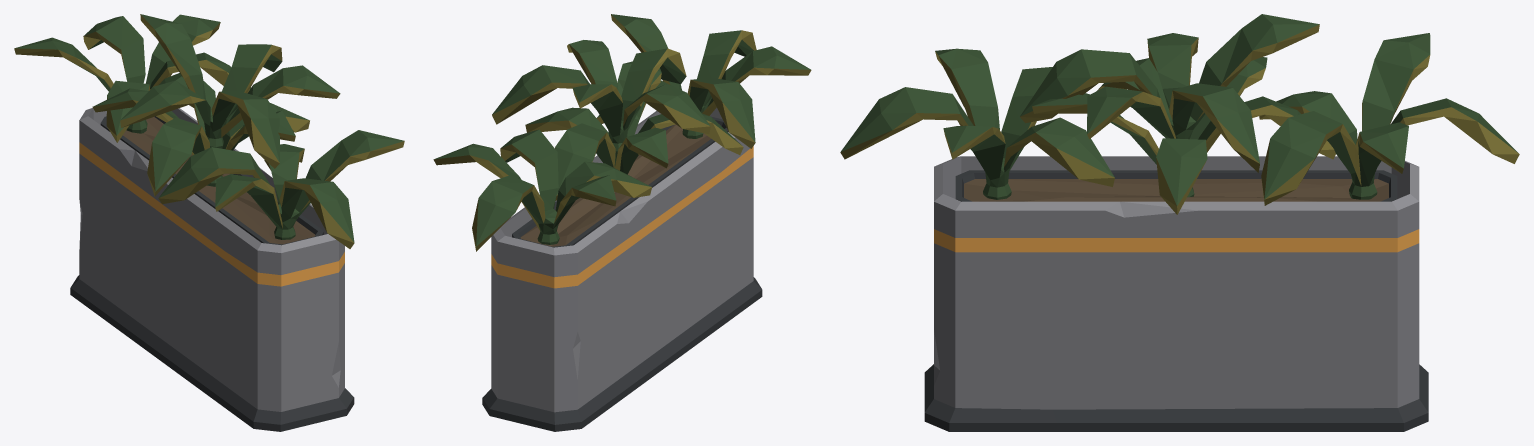
File: SM_Prop_Plant_Vase_02.fbx
3 renders of one model, left to right at view 1: azimuth 30°, elevation 25°; view 2: azimuth 150°, elevation 25°; view 3: azimuth 270°, elevation 25°, orthographic. The views are drawn at different scales.
Parts seen in each view (by area): view 1: SM_Prop_Plant_Vase_02_LOD0; view 2: SM_Prop_Plant_Vase_02_LOD0; view 3: SM_Prop_Plant_Vase_02_LOD0.
Part boxes in pixels (x1,y1,x2,y2): SM_Prop_Plant_Vase_02_LOD0: (14,14,404,431); SM_Prop_Plant_Vase_02_LOD0: (433,14,811,431); SM_Prop_Plant_Vase_02_LOD0: (840,14,1519,431).
Bounding box in the file's own units: 222 × 93.07 × 135.
1 material, 1 textured.
